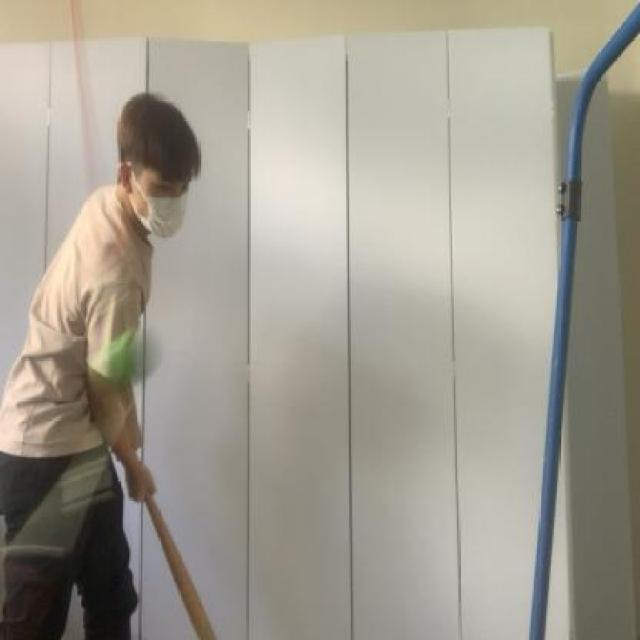baseball: (86, 320, 166, 391)
